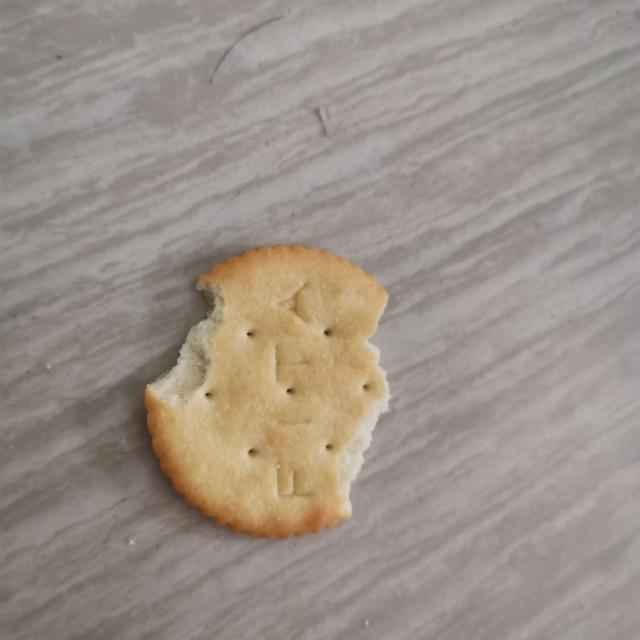Broken: (143, 241, 392, 539)
